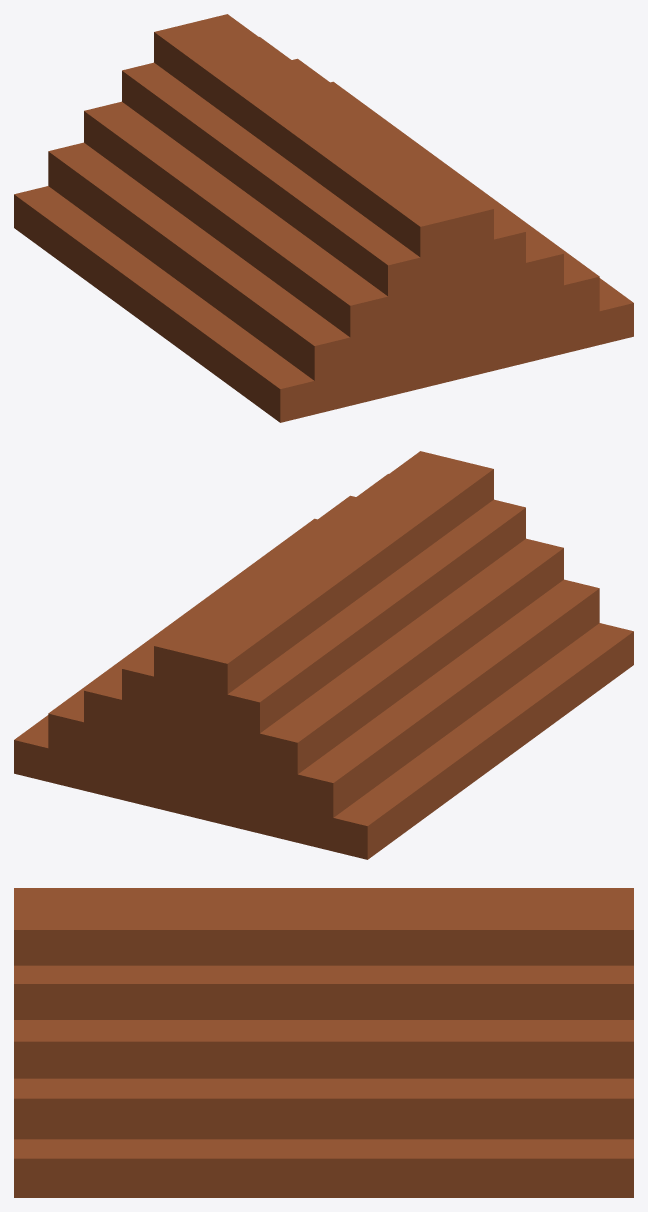
File: Lumber.fbx
3 views of the same model, one above another, from view 1: azimuth 30°, elevation 25°; view 2: azimuth 150°, elevation 25°; view 3: azimuth 270°, elevation 25° (orthographic). The views are drawn at different scales.
Visible parts, largest first — view 1: Model; view 2: Model; view 3: Model.
Part boxes in pixels (bbox=[...]): Model: bbox=[14, 14, 633, 422]; Model: bbox=[14, 451, 633, 859]; Model: bbox=[14, 888, 633, 1197].
Size of the model in its own units: 45.31 by 19.81 by 59.09.
